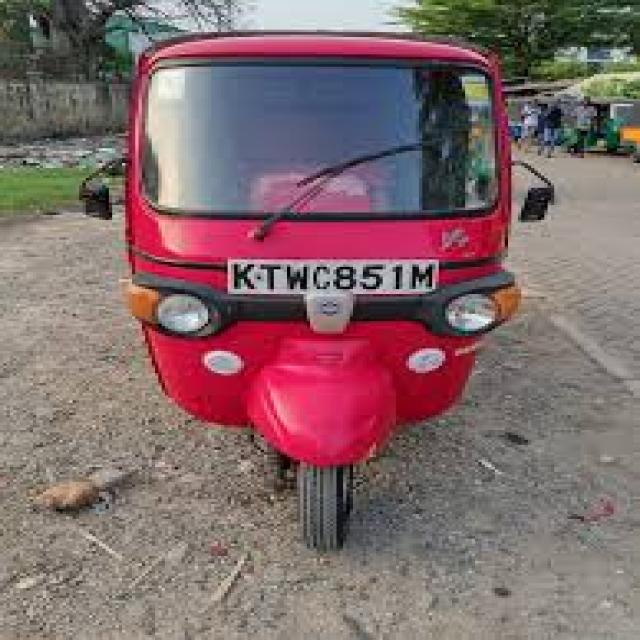tuktuk: (68, 10, 598, 563)
